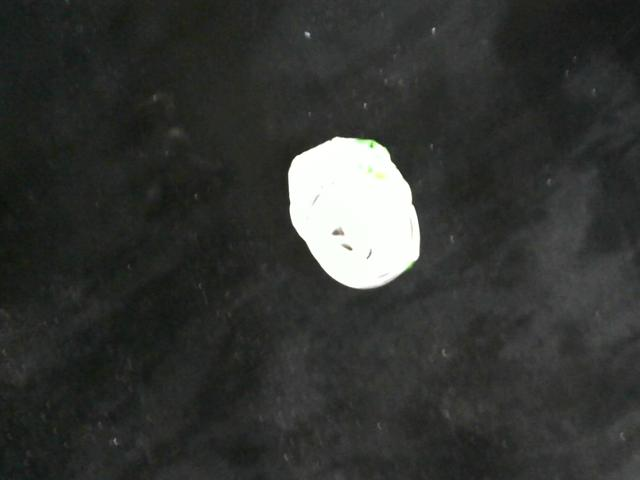can: (284, 128, 431, 295)
